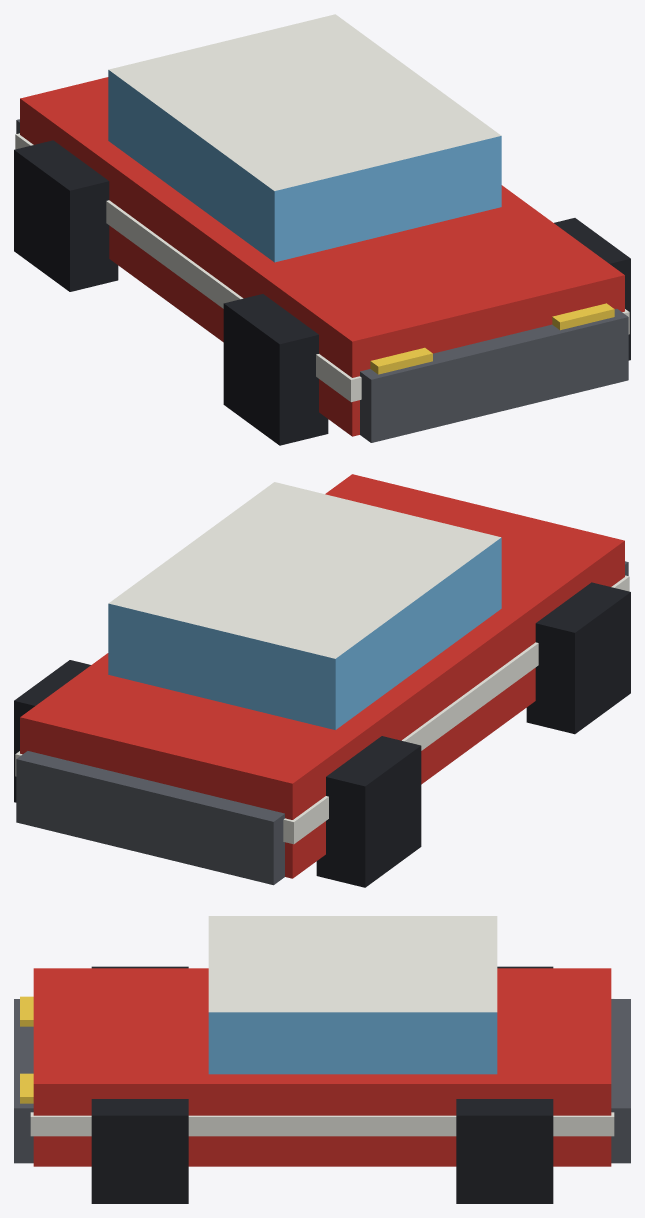
Rendered from car.glb.
3 views of the same model, one above another, from view 1: azimuth 30°, elevation 25°; view 2: azimuth 150°, elevation 25°; view 3: azimuth 270°, elevation 25° (orthographic). The views are drawn at different scales.
Visible parts, largest first — view 1: rally_car; view 2: rally_car; view 3: rally_car.
Part boxes in pixels (<box>): rally_car: <box>14,14,630,445</box>; rally_car: <box>14,474,630,887</box>; rally_car: <box>14,916,630,1203</box>.
Bounding box in the file's own units: 2.32 × 1.2 × 4.06.
Materials: 1 (1 with a texture image).
